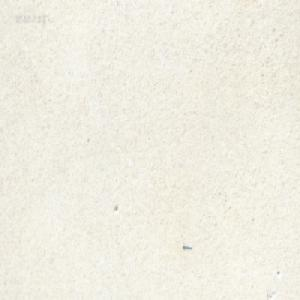Nail: (182, 243, 192, 250)
